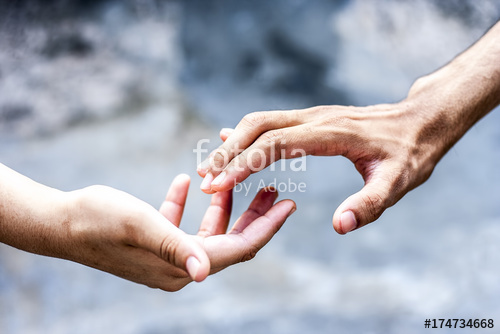finger: (210, 121, 342, 192), (199, 103, 303, 191), (182, 200, 307, 271), (193, 108, 295, 171), (219, 188, 279, 232), (197, 191, 237, 233), (158, 171, 191, 210)
